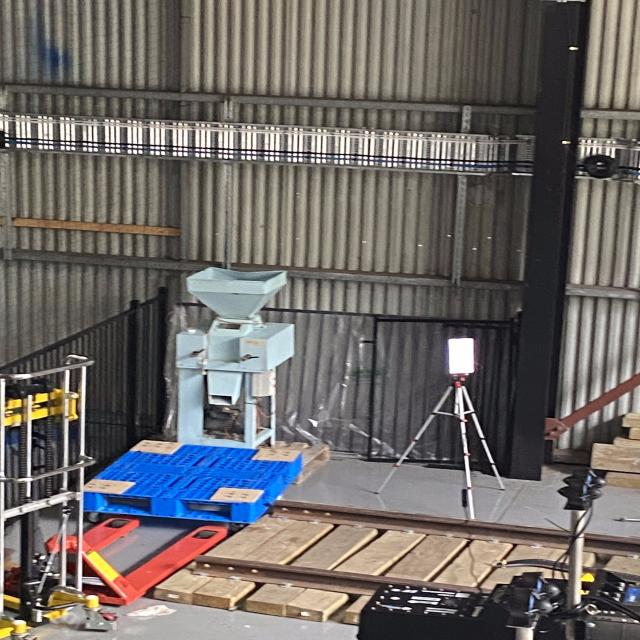matrix: (439, 335, 481, 383)
